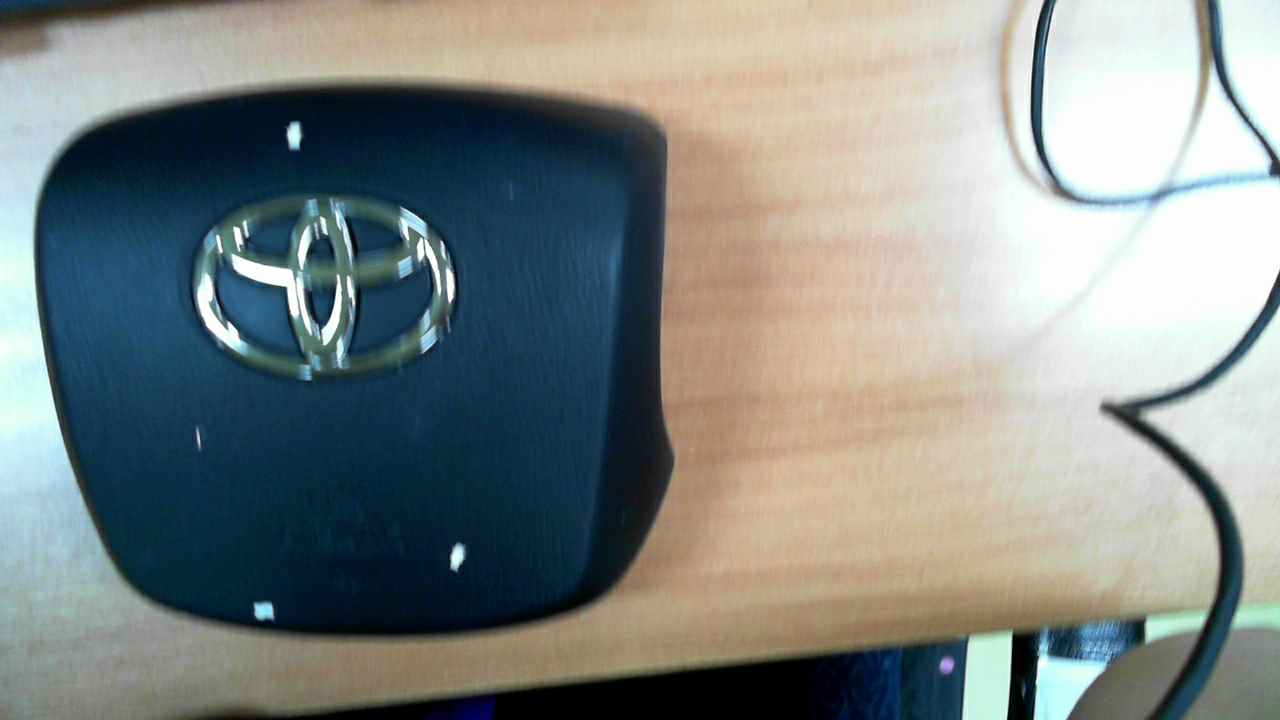Airbag: (32, 85, 675, 635)
Mark: (449, 542, 467, 573), (286, 120, 303, 152), (253, 600, 276, 622), (195, 426, 203, 451)
